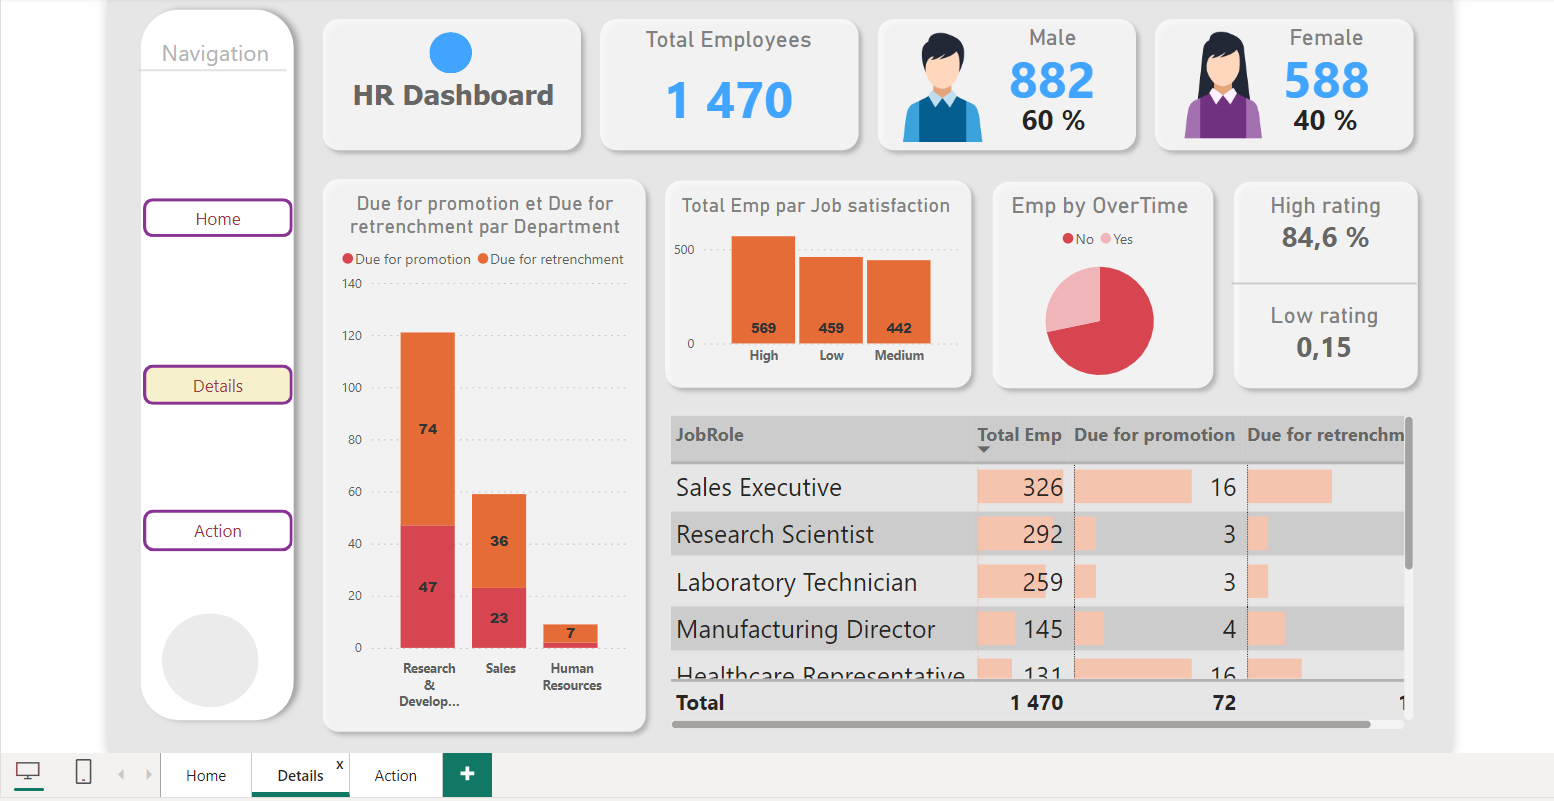

What the dashboard file says about the page in this screenshot:
{"tool":"powerbi","page":{"name":"Details","canvas":[1280,720],"ordinal":1},"visuals":[{"type":"shape","box":[20.3,1.1,167.4,698.5],"z":0},{"type":"shape","box":[195.4,12.4,264.3,143.1],"z":1000},{"type":"shape","box":[459.7,12.4,264.3,143.1],"z":2000},{"type":"shape","box":[724,12.4,264.3,143.1],"z":3000},{"type":"shape","box":[988.2,12.4,264.3,143.1],"z":4000},{"type":"shape","box":[195.2,164.4,325.9,544.6],"z":5000},{"type":"shape","box":[521.1,165.9,309.7,215.8],"z":6000},{"type":"shape","box":[833.6,166.7,228.3,215],"z":7000},{"type":"shape","box":[1063.1,166.7,193.3,215],"z":8000},{"type":"textbox","box":[209.7,71.2,238.7,51.4],"z":9000},{"type":"textbox","box":[36.9,33,130.5,51.4],"z":10000},{"type":"shape","box":[305.9,33,40.9,39.6],"z":12000},{"type":"card","title":"Total Employees","fields":{"Values":["All Measures.Total Emp"]},"box":[468,27.5,246.4,112.9],"z":13000},{"type":"columnChart","fields":{"Category":["HR Analytics Data.Department"],"Y":["All Measures.Due for promotion","All Measures.Due for retirment"]},"box":[216.3,185.9,284.8,501.1],"z":20000},{"type":"tableEx","fields":{"Values":["HR Analytics Data.JobRole","All Measures.Total Emp","All Measures.Due for promotion","All Measures.Due for retirment"]},"box":[529.5,393.8,718.8,308.1],"z":21000},{"type":"columnChart","fields":{"Category":["HR Analytics Data.Job satisfaction"],"Y":["All Measures.Total Emp"]},"box":[532.8,186.4,281.8,173.2],"z":22000},{"type":"pieChart","title":"Emp by OverTime","fields":{"Category":["HR Analytics Data.OverTime"],"Y":["All Measures.Total Emp"]},"box":[820.3,186,248.9,192.1],"z":23000},{"type":"card","title":"High rating","fields":{"Values":["All Measures.% High emp rating"]},"box":[1066.7,186,186,61.6],"z":24000},{"type":"card","title":"Low rating","fields":{"Values":["All Measures.% Low emp rating"]},"box":[1065.5,289.9,186,61.6],"z":25000},{"type":"shape","box":[1070.1,265.7,176.1,14.7],"z":26000},{"type":"shape","box":[30.2,61.6,140.1,15.7],"z":34000},{"type":"shape","box":[51.4,586.8,92.3,89.7],"z":34001},{"type":"card","title":"Male","fields":{"Values":["All Measures.Male"]},"box":[814.8,26.2,170.7,75.7],"z":34005},{"type":"card","fields":{"Values":["All Measures.Male %"]},"box":[834.1,90.8,132.1,55.1],"z":34006},{"type":"image","box":[734.5,25,121.4,120.2],"z":34007},{"type":"card","title":"Female","fields":{"Values":["All Measures.Female"]},"box":[1068.7,26.2,183.1,75.7],"z":34008},{"type":"card","fields":{"Values":["All Measures.Female %"]},"box":[1083.9,90.8,152.8,53.7],"z":34009},{"type":"image","box":[1010.7,25,102.4,115.5],"z":34010},{"type":"actionButton","box":[32.9,192.1,142.7,37],"z":34011},{"type":"actionButton","box":[32.9,488.5,142.7,39.8],"z":34012},{"type":"actionButton","box":[32.9,349.9,142.7,38.4],"z":34013}]}

Visuals, with their boxes on the page's 1280x720 design canvas (x1, y1, x2, y2). These are canvas units, not pixel positions in the 1554x801 screenshot, which may show the page scaled, cropped or inside an application window:
shape: x1=20 y1=1 x2=188 y2=700
shape: x1=195 y1=12 x2=460 y2=156
shape: x1=460 y1=12 x2=724 y2=156
shape: x1=724 y1=12 x2=988 y2=156
shape: x1=988 y1=12 x2=1252 y2=156
shape: x1=195 y1=164 x2=521 y2=709
shape: x1=521 y1=166 x2=831 y2=382
shape: x1=834 y1=167 x2=1062 y2=382
shape: x1=1063 y1=167 x2=1256 y2=382
textbox: x1=210 y1=71 x2=448 y2=123
textbox: x1=37 y1=33 x2=167 y2=84
shape: x1=306 y1=33 x2=347 y2=73
"Total Employees" card: x1=468 y1=28 x2=714 y2=140
columnChart - HR Analytics Data.Department x All Measures.Due for promotion: x1=216 y1=186 x2=501 y2=687
tableEx - HR Analytics Data.JobRole x All Measures.Total Emp: x1=530 y1=394 x2=1248 y2=702
columnChart - HR Analytics Data.Job satisfaction x All Measures.Total Emp: x1=533 y1=186 x2=815 y2=360
"Emp by OverTime" pieChart: x1=820 y1=186 x2=1069 y2=378
"High rating" card: x1=1067 y1=186 x2=1253 y2=248
"Low rating" card: x1=1066 y1=290 x2=1252 y2=352
shape: x1=1070 y1=266 x2=1246 y2=280
shape: x1=30 y1=62 x2=170 y2=77
shape: x1=51 y1=587 x2=144 y2=676
"Male" card: x1=815 y1=26 x2=986 y2=102
card - All Measures.Male %: x1=834 y1=91 x2=966 y2=146
image: x1=734 y1=25 x2=856 y2=145
"Female" card: x1=1069 y1=26 x2=1252 y2=102
card - All Measures.Female %: x1=1084 y1=91 x2=1237 y2=144
image: x1=1011 y1=25 x2=1113 y2=140
actionButton: x1=33 y1=192 x2=176 y2=229
actionButton: x1=33 y1=488 x2=176 y2=528
actionButton: x1=33 y1=350 x2=176 y2=388
